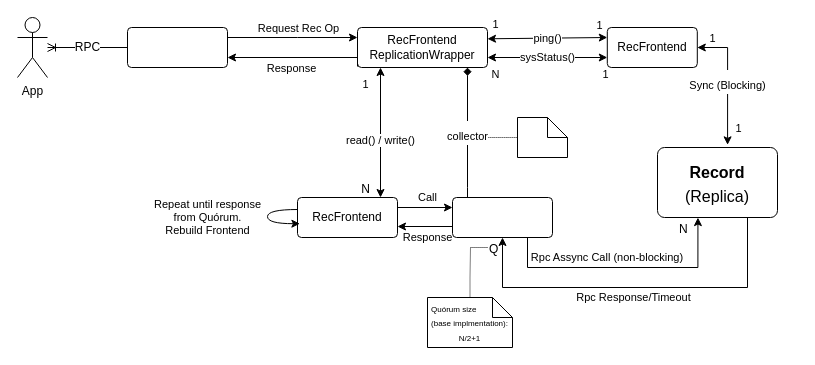
Some shapes in this 815 by 365 pixel diagram are drawn without their labels. The centre of each missing label's shape, as x and y in pixels:
Hub (Server): point 177,47
New for each call: point 542,137
Response Observer: point 502,217
